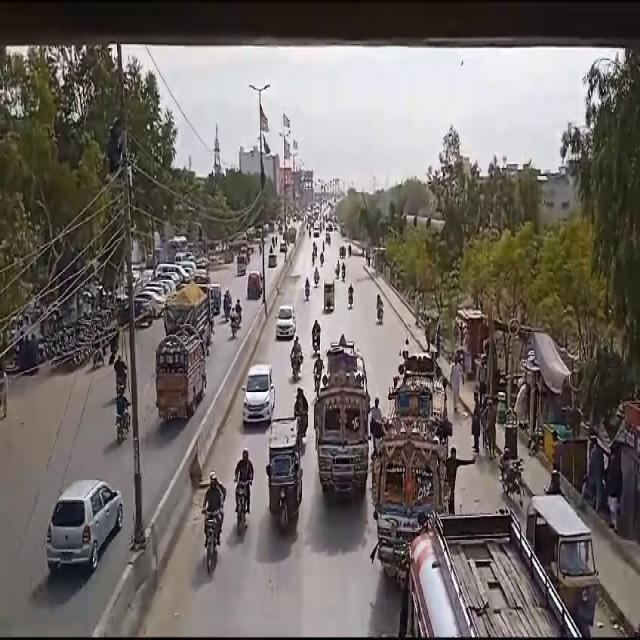car: (40, 478, 124, 571), (242, 365, 274, 430)
motorbike: (203, 466, 226, 576), (232, 447, 254, 541), (291, 334, 304, 382)
truck: (154, 316, 208, 425)
